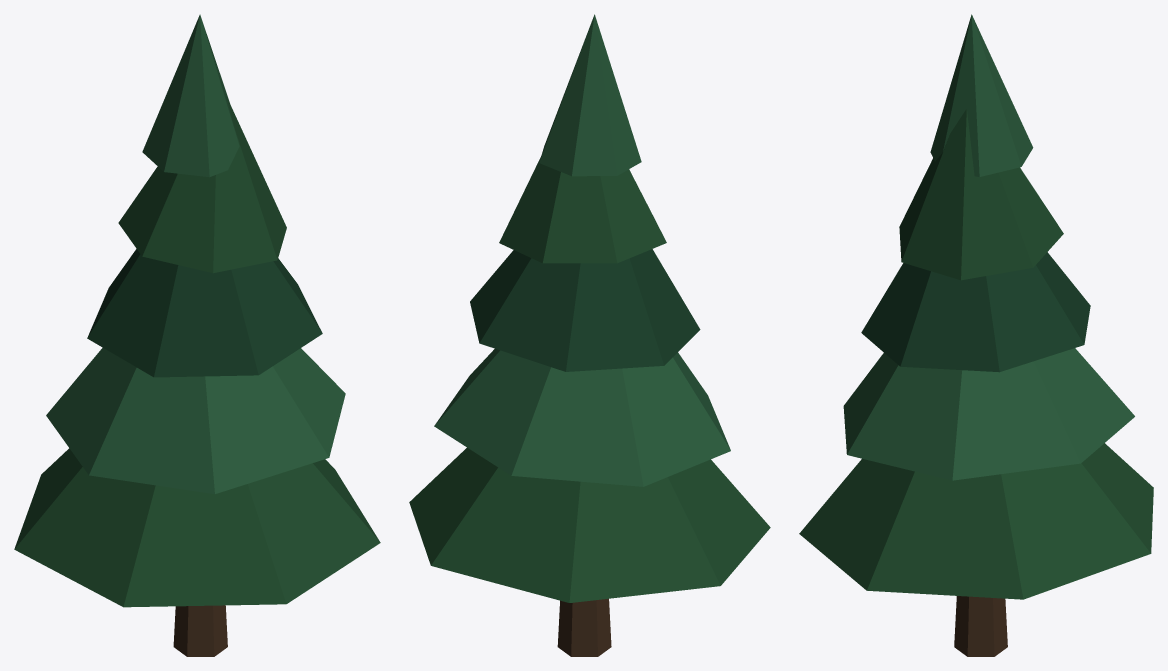
Rendered from pine_a.glb.
3 views of the same model, side by side, from view 1: azimuth 30°, elevation 25°; view 2: azimuth 150°, elevation 25°; view 3: azimuth 270°, elevation 25° (orthographic).
Visible parts, largest first — view 1: pine_mesh; view 2: pine_mesh; view 3: pine_mesh.
Boxes of the visible parts, x1,y1,x2,y2 form: pine_mesh: [14, 14, 380, 656]; pine_mesh: [409, 14, 770, 656]; pine_mesh: [799, 14, 1153, 656].
Size of the model in its own units: 1.89 by 3.62 by 1.85.
